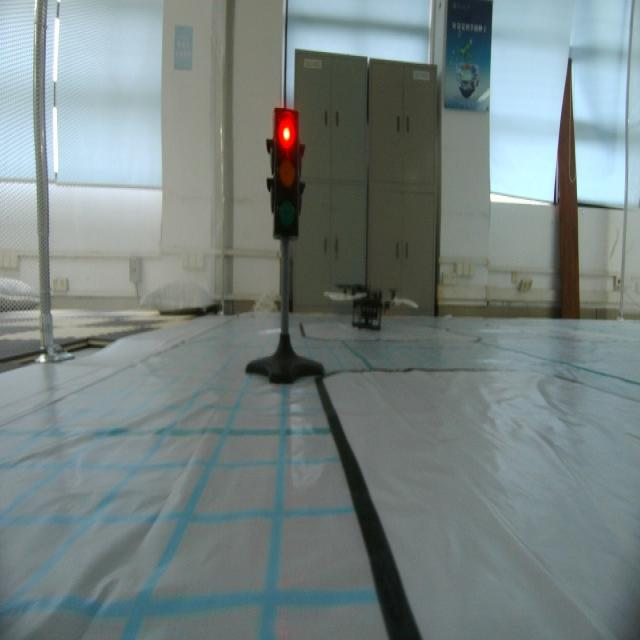red: (262, 100, 308, 245)
